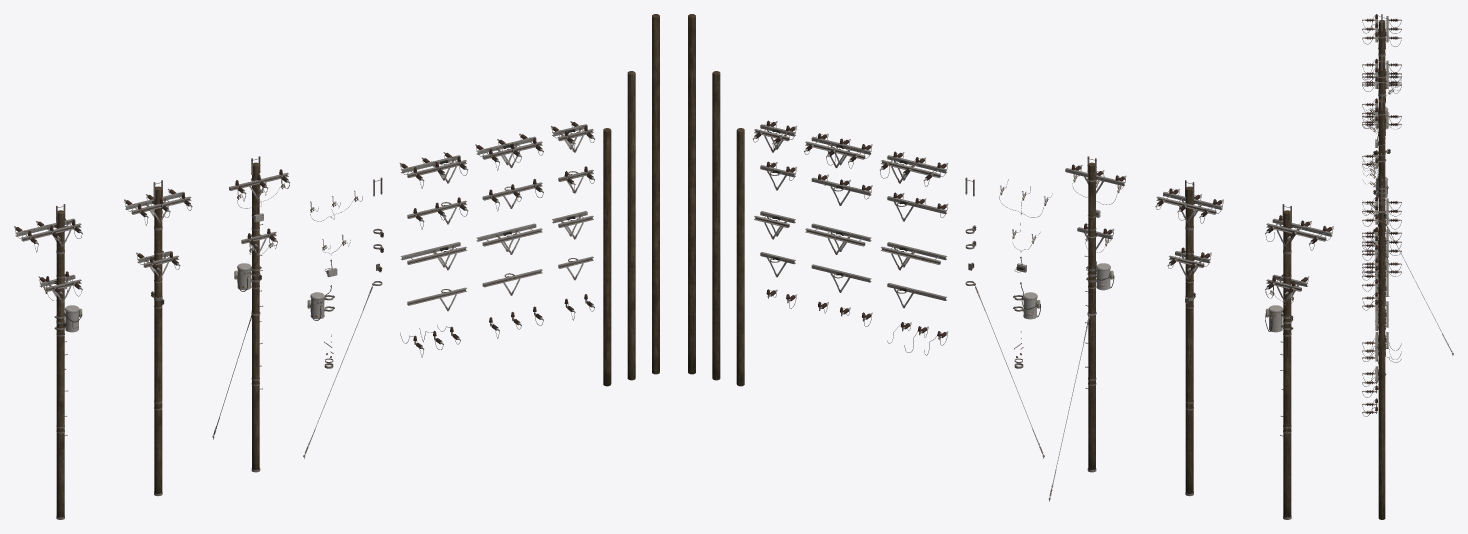
Rendered from modular_electricity_poles_1k.fbx.
3 views of the same model, side by side, from view 1: azimuth 30°, elevation 25°; view 2: azimuth 150°, elevation 25°; view 3: azimuth 270°, elevation 25° (orthographic). The views are drawn at different scales.
Parts seen in each view (by area): view 1: pole_large, pole, preset_03_pole, preset_02_pole, pole_small, preset_01_pole, connection_large_01, connection_large_offset_01, preset_02_connection_large_01, preset_03_connection_large_offset_01, support_large_01, support_large_offset_01; view 2: pole_large, pole, preset_02_pole, preset_03_pole, preset_01_pole, pole_small, connection_large_01, connection_large_offset_01, preset_02_connection_large_01, preset_03_connection_large_offset_01, support_large_01, support_large_offset_01; view 3: pole_large, preset_01_pole, connection_large_offset_01, preset_03_connection_large_offset_01, preset_02_connection_large_01, connection_large_01, connection_small_01, preset_03_pole, preset_02_pole, preset_01_connection_large_02, preset_02_connection_small_01, preset_03_connection_small_01_02 (+10 smaller).
Part boxes in pixels (x1,y1,x2,y2): pole_large: [652, 14, 659, 374]; pole: [627, 71, 635, 380]; preset_03_pole: [56, 210, 64, 517]; preset_02_pole: [154, 186, 162, 493]; pole_small: [603, 128, 611, 386]; preset_01_pole: [252, 162, 259, 469]; connection_large_01: [475, 133, 543, 170]; connection_large_offset_01: [399, 152, 467, 188]; preset_02_connection_large_01: [124, 188, 192, 225]; preset_03_connection_large_offset_01: [14, 218, 82, 252]; support_large_01: [476, 223, 542, 254]; support_large_offset_01: [400, 242, 466, 270]; pole_large: [688, 14, 695, 374]; pole: [712, 71, 720, 380]; preset_02_pole: [1185, 186, 1193, 493]; preset_03_pole: [1283, 210, 1291, 517]; preset_01_pole: [1088, 162, 1095, 469]; pole_small: [736, 128, 744, 386]; connection_large_01: [804, 133, 872, 168]; connection_large_offset_01: [880, 151, 948, 186]; preset_02_connection_large_01: [1155, 188, 1223, 223]; preset_03_connection_large_offset_01: [1265, 215, 1333, 250]; support_large_01: [805, 223, 871, 254]; support_large_offset_01: [881, 242, 947, 270]; pole_large: [1378, 219, 1385, 519]; preset_01_pole: [1378, 99, 1385, 219]; connection_large_offset_01: [1362, 196, 1401, 231]; preset_03_connection_large_offset_01: [1362, 14, 1401, 49]; preset_02_connection_large_01: [1362, 58, 1401, 88]; connection_large_01: [1362, 227, 1401, 257]; connection_small_01: [1362, 258, 1401, 282]; preset_03_pole: [1378, 20, 1385, 60]; preset_02_pole: [1378, 60, 1385, 100]; preset_01_connection_large_02: [1362, 98, 1386, 128]; preset_02_connection_small_01: [1362, 112, 1401, 135]; preset_03_connection_small_01_02: [1362, 74, 1401, 95].
Size of the model in its own units: 1312 by 700 by 196.
